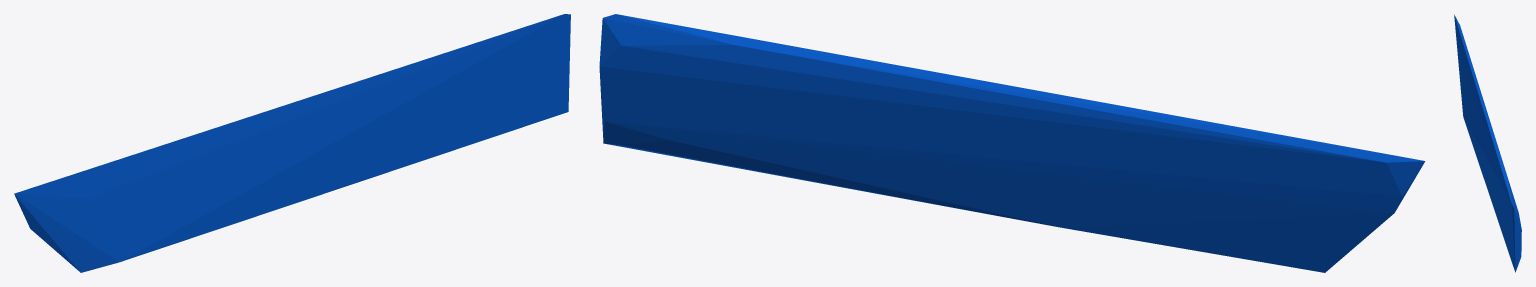
Rendered from arm-L4_convex_piece_021.obj.
The picture shows the model from 3 angles, left to right: view 1: azimuth 30°, elevation 25°; view 2: azimuth 150°, elevation 25°; view 3: azimuth 270°, elevation 25°; orthographic projection. The views are drawn at different scales.
Size of the model in its own units: 0.2306 by 0.0382 by 0.034.
